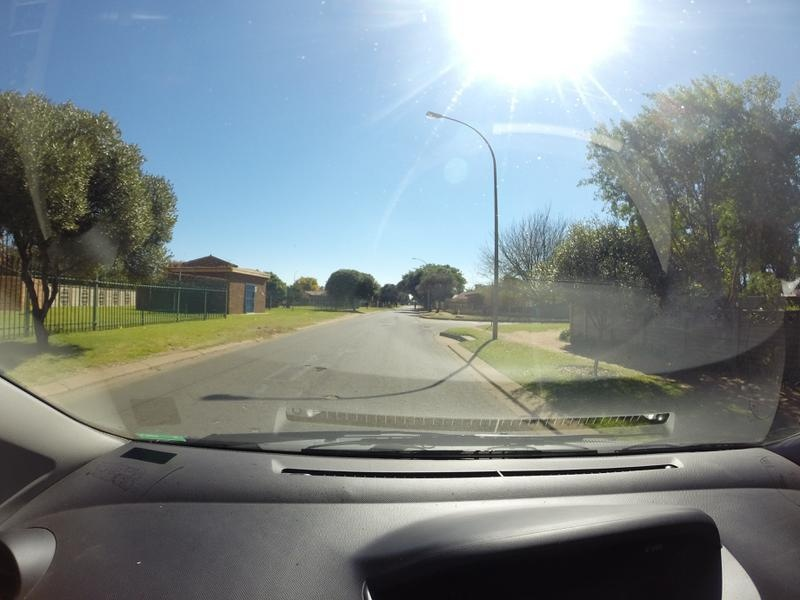pothole: (306, 363, 323, 376), (322, 391, 342, 402)
